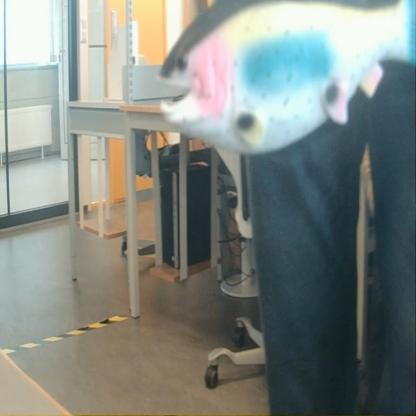rubberfish: (153, 0, 415, 163)
